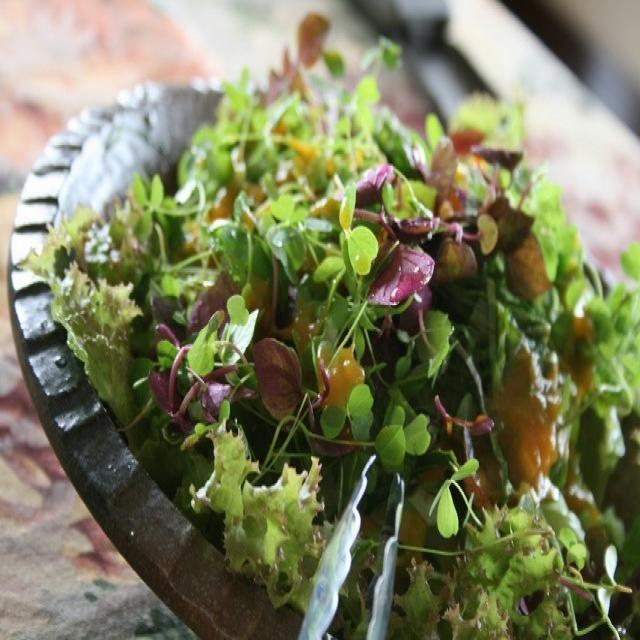Green Salad: (57, 70, 640, 640)
